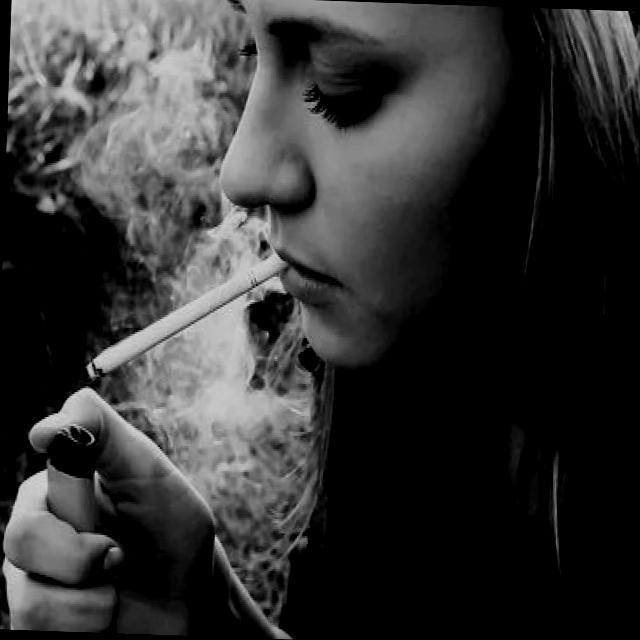cigarette: (82, 236, 296, 393)
